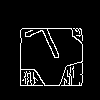L: (23, 22, 67, 76)
